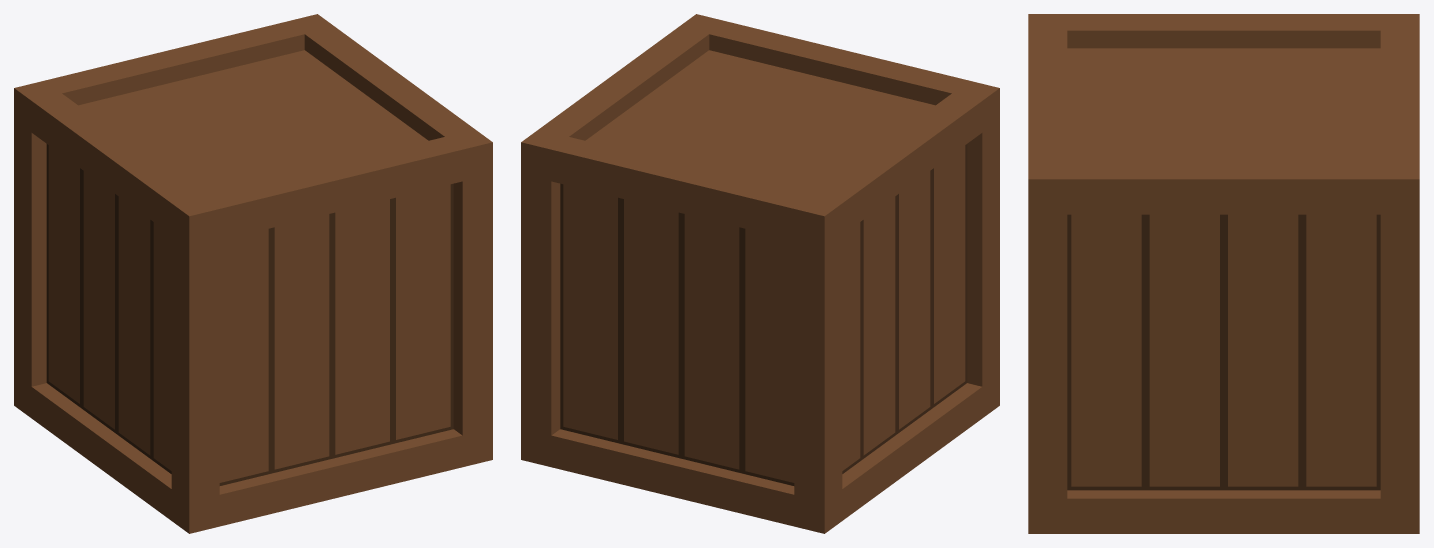
The model's file is Crate.fbx.
The picture shows the model from 3 angles, left to right: view 1: azimuth 30°, elevation 25°; view 2: azimuth 150°, elevation 25°; view 3: azimuth 270°, elevation 25°; orthographic projection. The views are drawn at different scales.
Visible parts, largest first — view 1: Crate; view 2: Crate; view 3: Crate.
Part boxes in pixels (x1,y1,x2,y2): Crate: (14,14,492,533); Crate: (521,14,999,533); Crate: (1028,14,1419,533).
Size of the model in its own units: 200 by 200 by 200.
